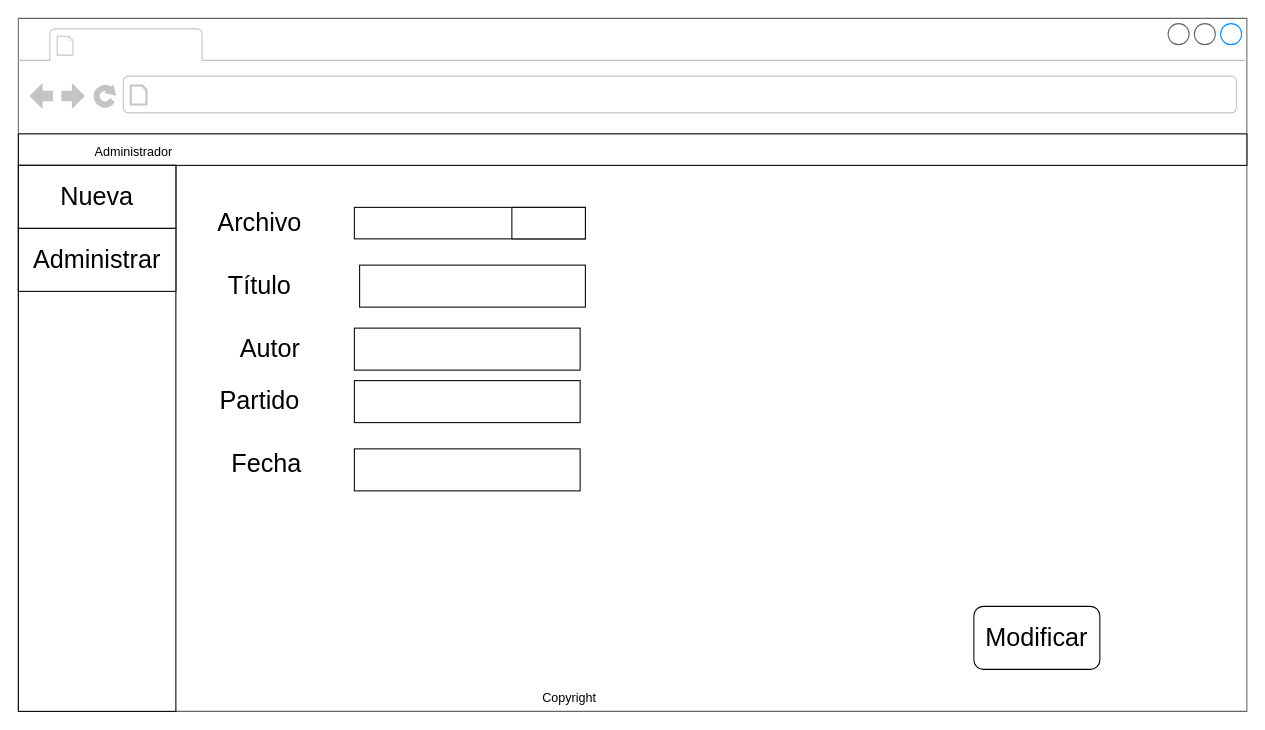
The diagram is 1265 pixels wide and 730 high, and some of its shapes have lost their labels. Each missing label, with the centre of its shape:
https://www.nuestraspropuestas.mx/admin: point (285, 94)
Index: point (138, 44)
